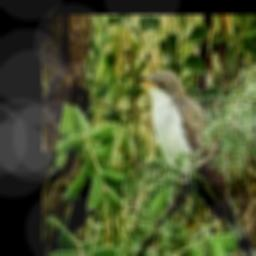Cuckoo: (135, 70, 256, 256)
